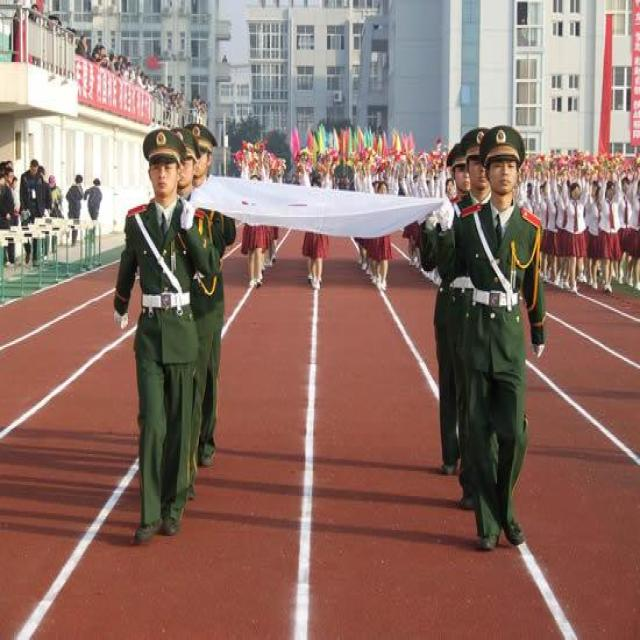non-fight: (435, 124, 551, 556), (106, 122, 221, 549), (594, 159, 626, 298)
